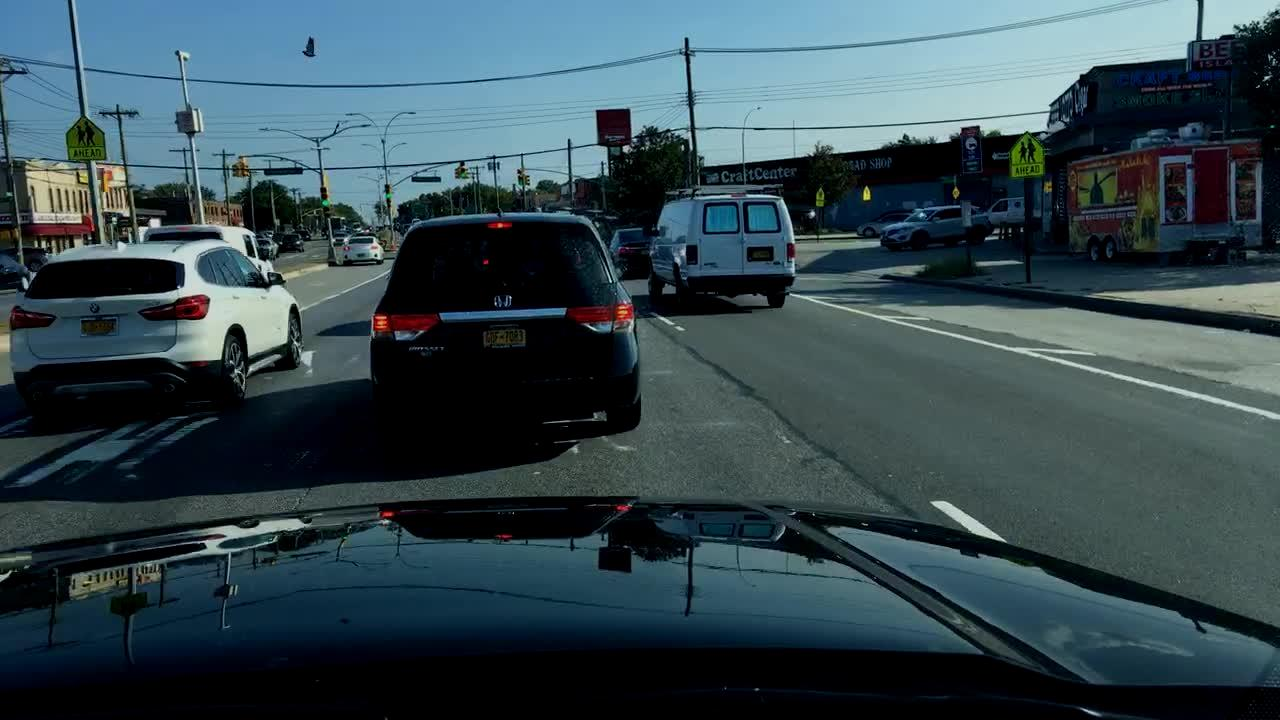Honda: (485, 286, 517, 320)
bmw: (84, 298, 104, 321)
